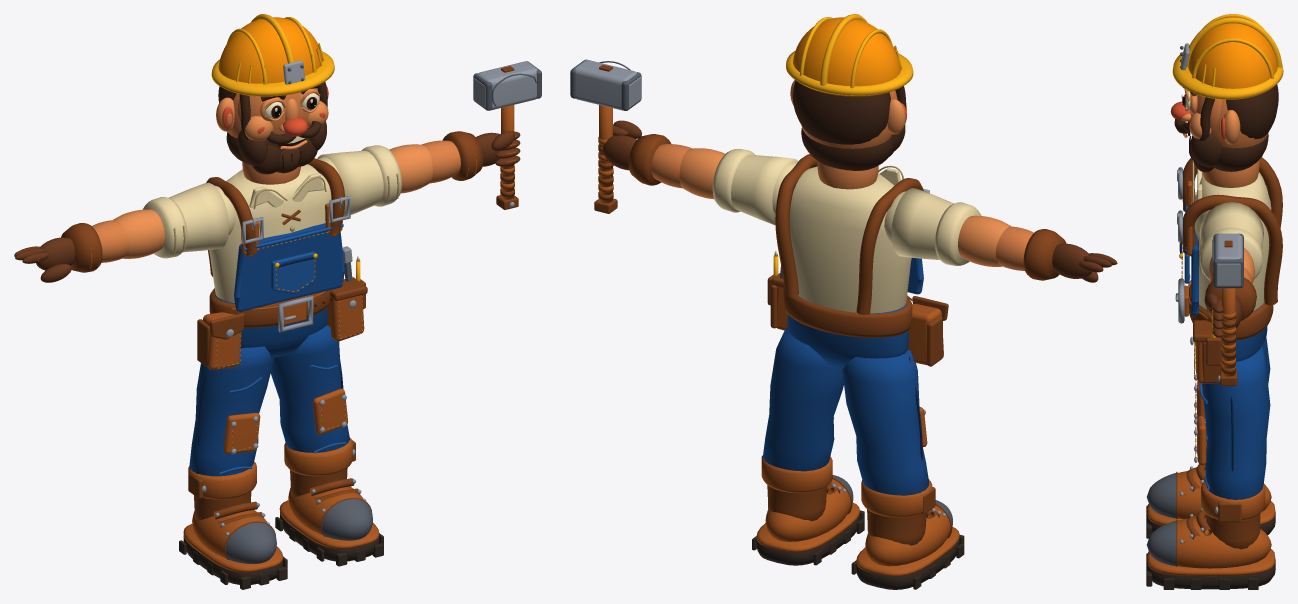
Rendered from builder.glb.
3 views of the same model, side by side, from view 1: azimuth 30°, elevation 25°; view 2: azimuth 150°, elevation 25°; view 3: azimuth 270°, elevation 25° (orthographic). The views are drawn at different scales.
Visible parts, largest first — view 1: Overalls | work blue, Leather | honey edges, Shirt | ivory linen, Leather | saddle tan, Skin | cheek, Metal | brushed steel, Metal | dark edge, Helmet | construction yellow, Skin | warm peach, Boots | charcoal sole, Helmet | raised ribs, Leather | work gloves (+3 smaller); view 2: Shirt | ivory linen, Overalls | work blue, Leather | saddle tan, Leather | honey edges, Hair | walnut brown, Helmet | construction yellow, Skin | cheek, Skin | warm peach, Boots | charcoal sole, Helmet | raised ribs, Leather | work gloves, Metal | brushed steel (+1 smaller); view 3: Leather | saddle tan, Leather | honey edges, Overalls | work blue, Shirt | ivory linen, Helmet | construction yellow, Hair | walnut brown, Helmet | raised ribs, Metal | dark edge, Metal | brushed steel, Boots | charcoal sole, Skin | warm peach, Skin | cheek (+5 smaller).
Boxes of the visible parts, x1,y1,x2,y2 form: Overalls | work blue: [189, 223, 349, 476]; Leather | honey edges: [35, 105, 516, 572]; Shirt | ivory linen: [143, 145, 401, 302]; Leather | saddle tan: [61, 66, 518, 559]; Skin | cheek: [113, 83, 432, 258]; Metal | brushed steel: [201, 60, 537, 535]; Metal | dark edge: [225, 61, 541, 563]; Helmet | construction yellow: [218, 17, 322, 83]; Skin | warm peach: [92, 88, 460, 262]; Boots | charcoal sole: [179, 512, 383, 589]; Helmet | raised ribs: [211, 14, 360, 281]; Leather | work gloves: [14, 131, 520, 282]; Shirt | ivory linen: [712, 149, 981, 313]; Overalls | work blue: [763, 257, 929, 495]; Leather | saddle tan: [594, 64, 1066, 545]; Leather | honey edges: [598, 105, 959, 576]; Hair | walnut brown: [792, 80, 906, 170]; Helmet | construction yellow: [793, 17, 900, 86]; Skin | cheek: [679, 80, 1011, 266]; Skin | warm peach: [651, 90, 1033, 270]; Boots | charcoal sole: [752, 510, 964, 589]; Helmet | raised ribs: [773, 14, 913, 276]; Leather | work gloves: [603, 120, 1117, 282]; Metal | brushed steel: [575, 60, 945, 516]; Leather | saddle tan: [1176, 157, 1282, 566]; Leather | honey edges: [1147, 181, 1275, 576]; Overalls | work blue: [1191, 229, 1270, 499]; Shirt | ivory linen: [1194, 156, 1271, 317]; Helmet | construction yellow: [1188, 16, 1277, 88]; Hair | walnut brown: [1174, 84, 1278, 172]; Helmet | raised ribs: [1172, 14, 1283, 337]; Metal | dark edge: [1146, 46, 1243, 566]; Metal | brushed steel: [1175, 43, 1242, 543]; Boots | charcoal sole: [1146, 505, 1275, 589]; Skin | warm peach: [1184, 89, 1268, 283]; Skin | cheek: [1181, 90, 1254, 283].
Size of the model in its own units: 2.19 by 2.1 by 0.4894.
